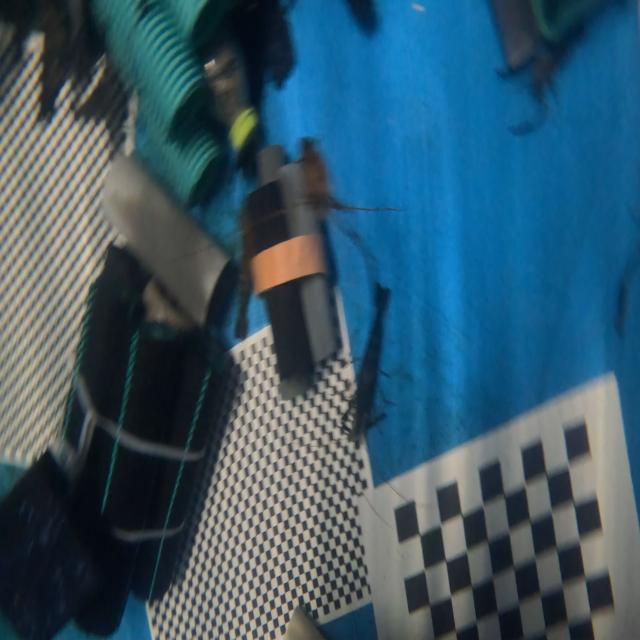prawn: (356, 285, 389, 431)
